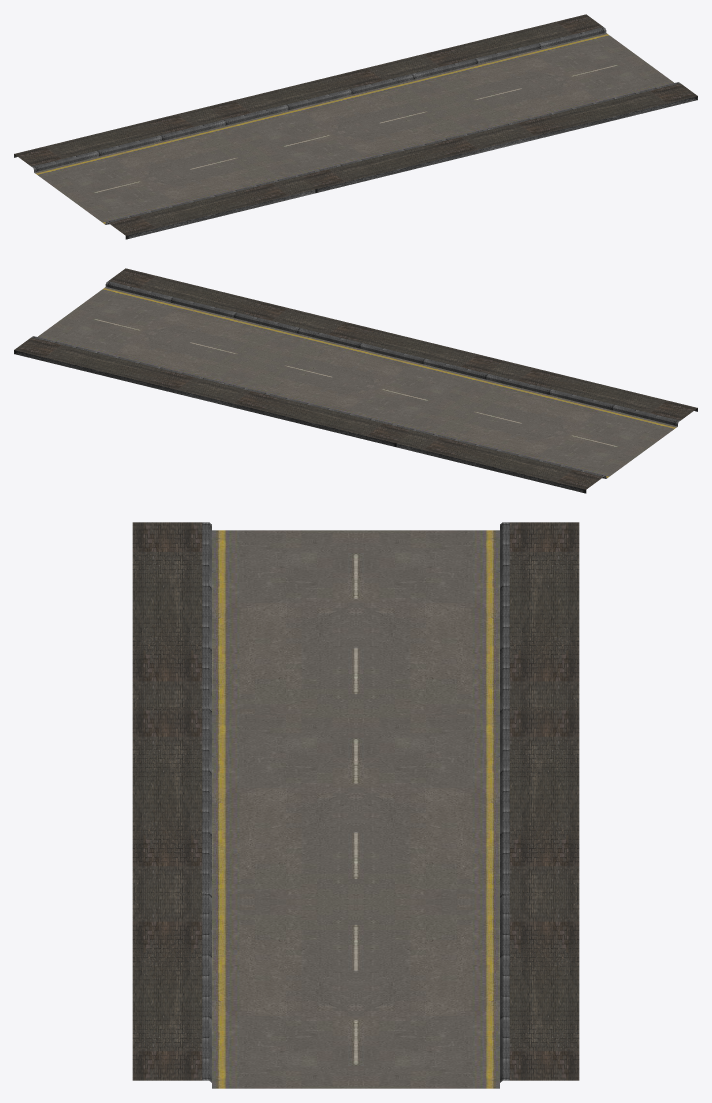
File: 训练直道.fbx
3 views of the same model, one above another, from view 1: azimuth 30°, elevation 25°; view 2: azimuth 150°, elevation 25°; view 3: azimuth 270°, elevation 25° (orthographic). The views are drawn at different scales.
Parts seen in each view (by area): view 1: polySurface85; view 2: polySurface85; view 3: polySurface85.
Part boxes in pixels (x1,y1,x2,y2): polySurface85: (14,14,697,239); polySurface85: (14,268,697,493); polySurface85: (132,522,579,1088).
Bounding box in the file's own units: 57.56 × 0.3822 × 19.46.
